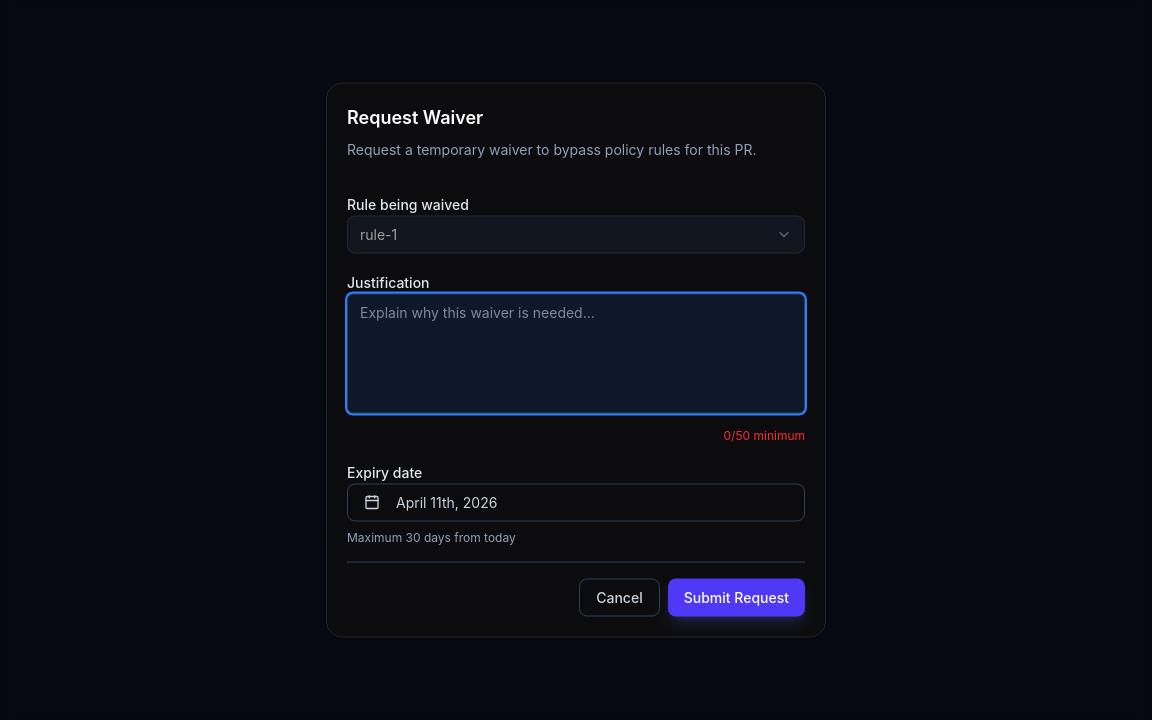
Test case: WaiverModal › Client-side validation › shows validation error when justification is less than 50 characters
The width and height of the screenshot is (1152, 720).
In the text box with placeholder "Explain why this waiver is needed...": (576, 354) [347, 294, 805, 414], type "Too short"
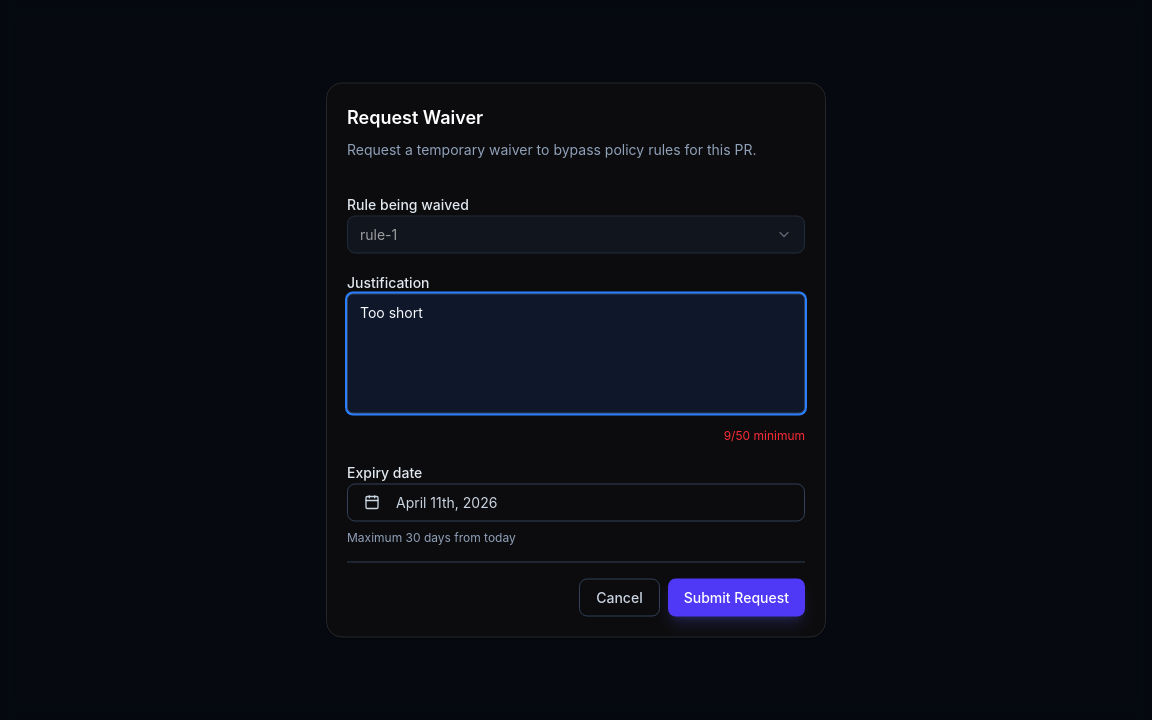
Click the button "Submit Request": click(736, 598) [668, 578, 805, 616]
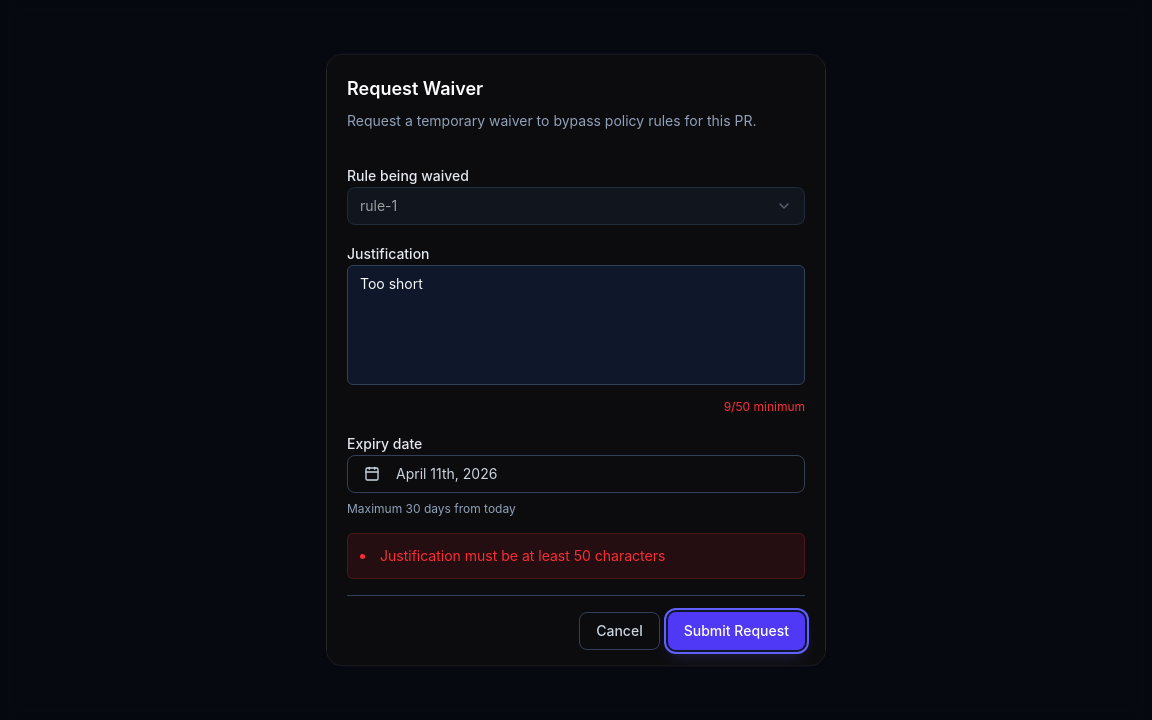
Expected: the list item "Justification must be at least 50 characters" is shown, [380, 547, 665, 564]
